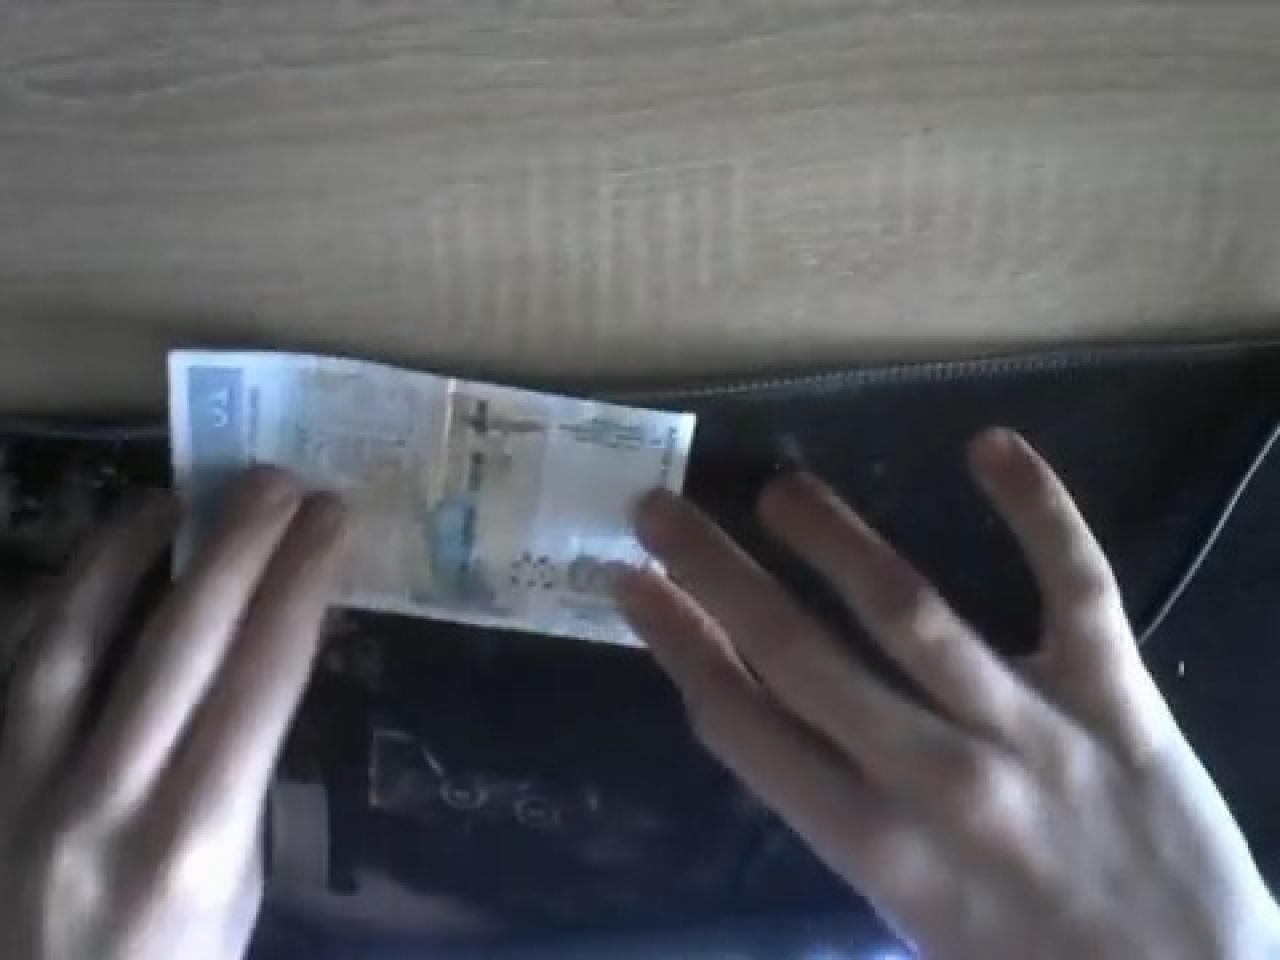20leva: (165, 344, 707, 645)
